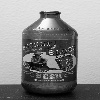beer: (17, 9, 86, 97)
